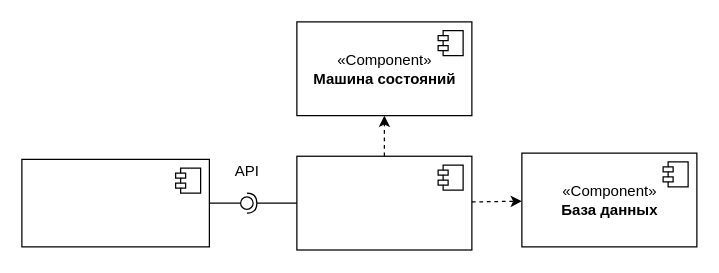
The diagram is 719 pixels wide and 273 high, and some of its shapes have lost their labels. Here are the shapes that lost their labels. From the top down, the centre of each, then its label:
At (115,202): "«Component» Клиент".
At (384,202): "«Component» Обработчик API запросов".
